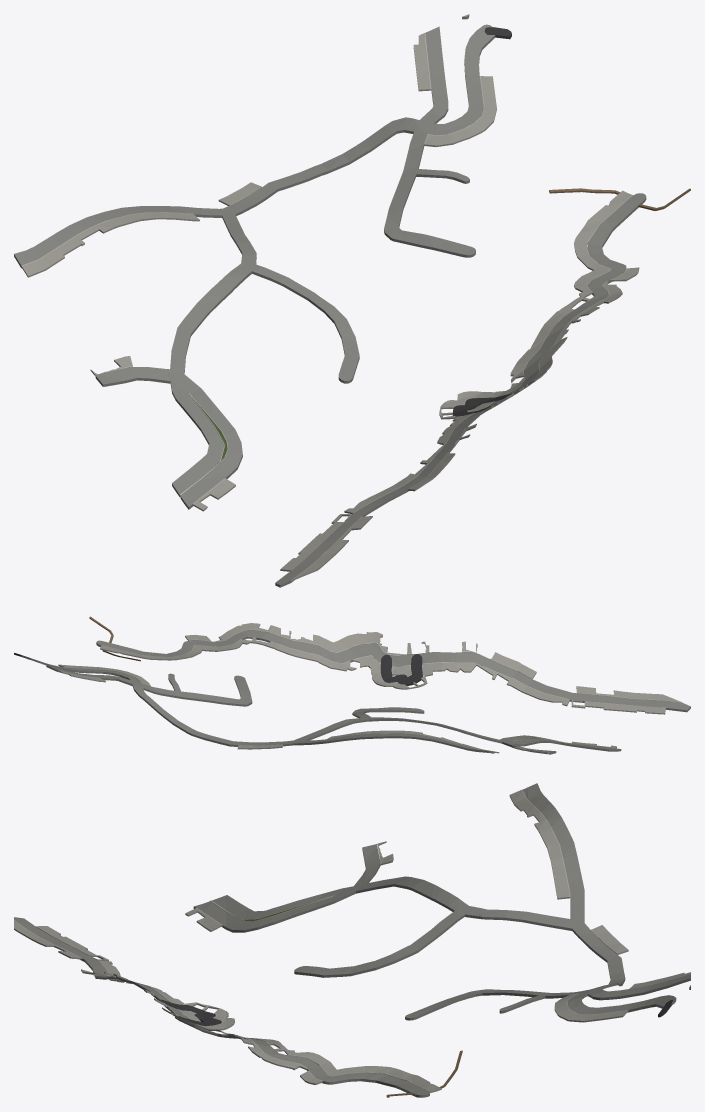
3 renders of one model, top to bottom at view 1: azimuth 30°, elevation 25°; view 2: azimuth 150°, elevation 25°; view 3: azimuth 270°, elevation 25°, orthographic. The views are drawn at different scales.
Bounding box in the file's own units: 293 × 89.97 × 292.
